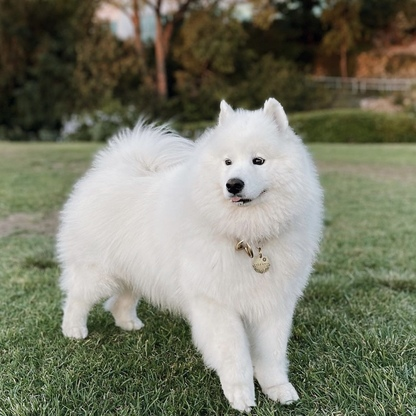samoyed: (50, 93, 333, 416)
